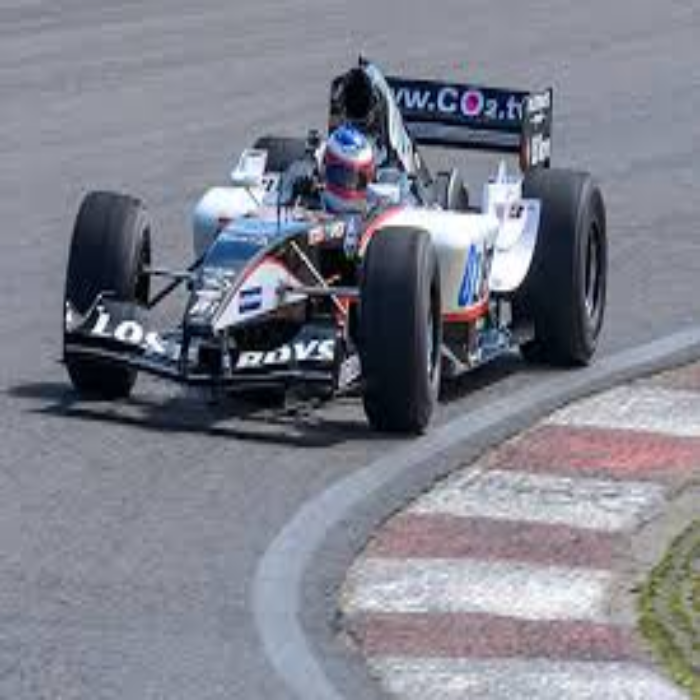f1_car: (44, 24, 646, 482)
